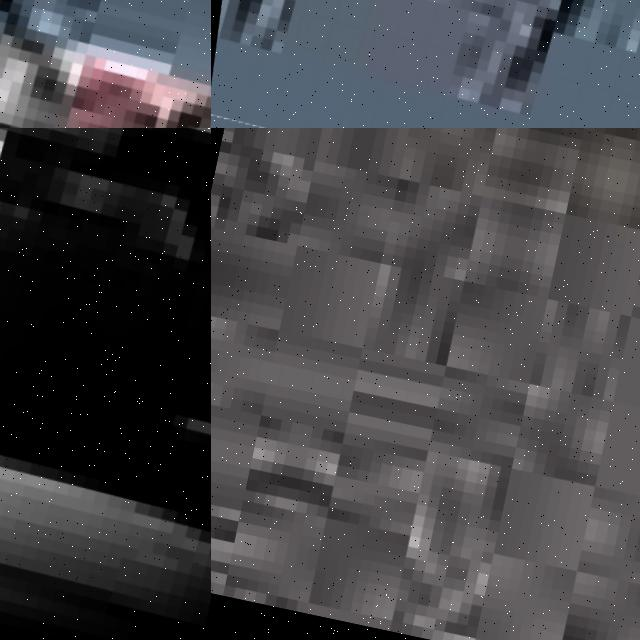0: (211, 0, 640, 128), (0, 0, 211, 128)
drone: (0, 128, 211, 640)
